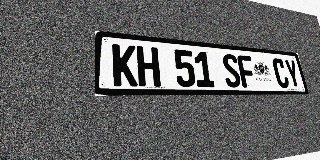1: (192, 51, 215, 87)
5: (173, 49, 197, 87)
C: (271, 58, 290, 88)
F: (236, 55, 257, 88)
H: (136, 46, 161, 87)
K: (112, 44, 138, 86)
S: (221, 53, 242, 87)
Y: (283, 59, 302, 88)
